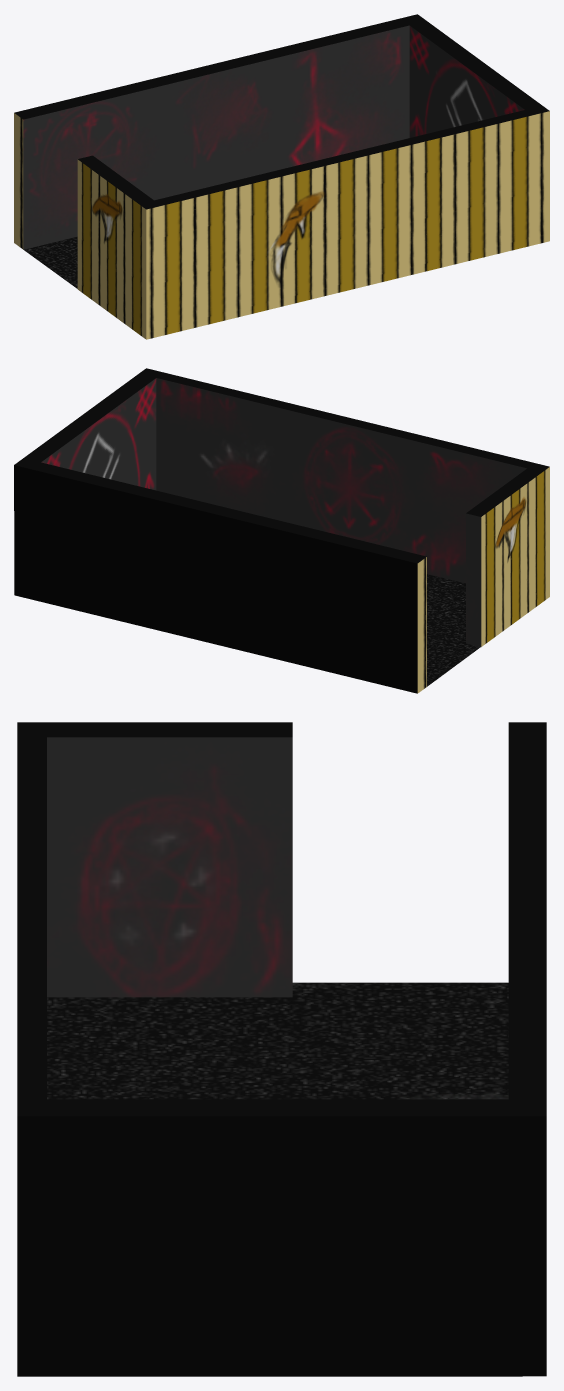
File: whitchcraft room .fbx
The picture shows the model from 3 angles, top to bottom: view 1: azimuth 30°, elevation 25°; view 2: azimuth 150°, elevation 25°; view 3: azimuth 270°, elevation 25°; orthographic projection. The views are drawn at different scales.
Visible parts, largest first — view 1: Witchcraft Room; view 2: Witchcraft Room; view 3: Witchcraft Room.
Part boxes in pixels (bbox=[...]): Witchcraft Room: bbox=[14, 14, 549, 339]; Witchcraft Room: bbox=[14, 368, 549, 693]; Witchcraft Room: bbox=[17, 722, 546, 1376].
Size of the model in its own units: 967 by 298 by 549.
